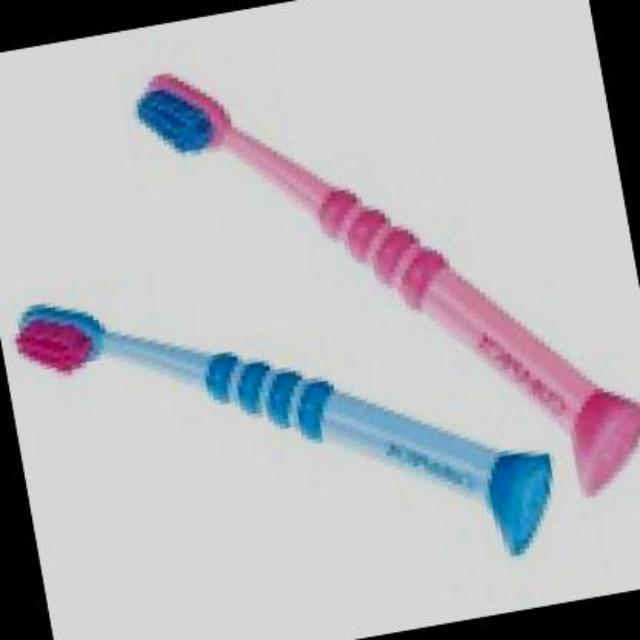toothbrush: (112, 0, 638, 620), (0, 186, 544, 638)
